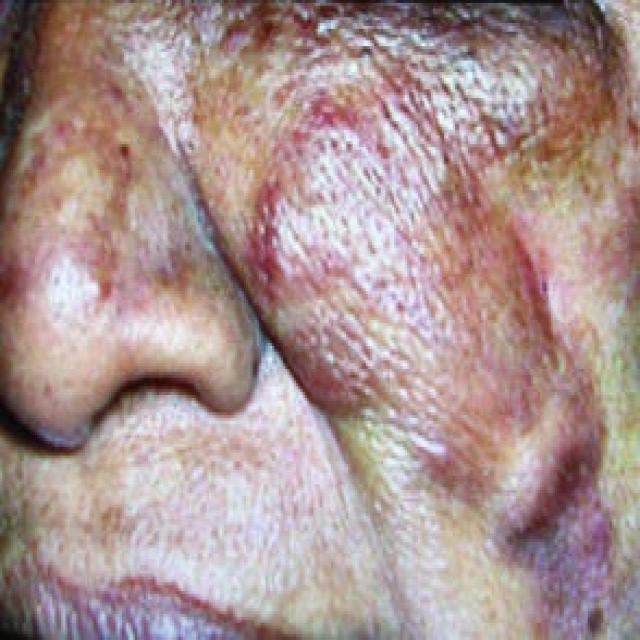Tinea Ringworm Candidiasis and other Fungal Infections: (207, 9, 634, 631)
